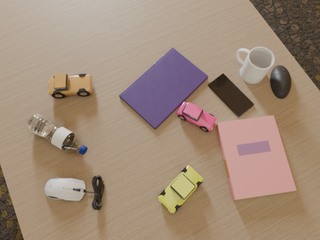book: (119, 48, 208, 129), (216, 115, 296, 200)
bottle: (26, 114, 87, 155)
cup: (236, 47, 275, 84)
mouse: (45, 178, 87, 201), (270, 65, 291, 99)
phone: (208, 73, 254, 117)
toy_car: (158, 166, 203, 213), (177, 102, 217, 132), (48, 74, 92, 98)
